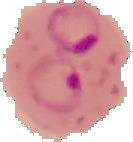parasitized: (15, 9, 122, 131), (42, 2, 107, 59), (32, 56, 94, 114)
